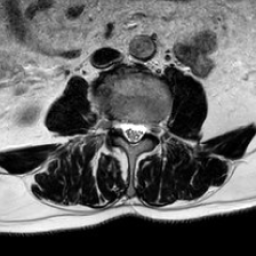CCS_normal: (129, 110, 136, 155)
LFS_normal: (146, 109, 156, 144)
LLS_normal: (136, 111, 146, 146)
RFS_normal: (110, 106, 120, 139)
RLS_normal: (120, 111, 129, 145)
